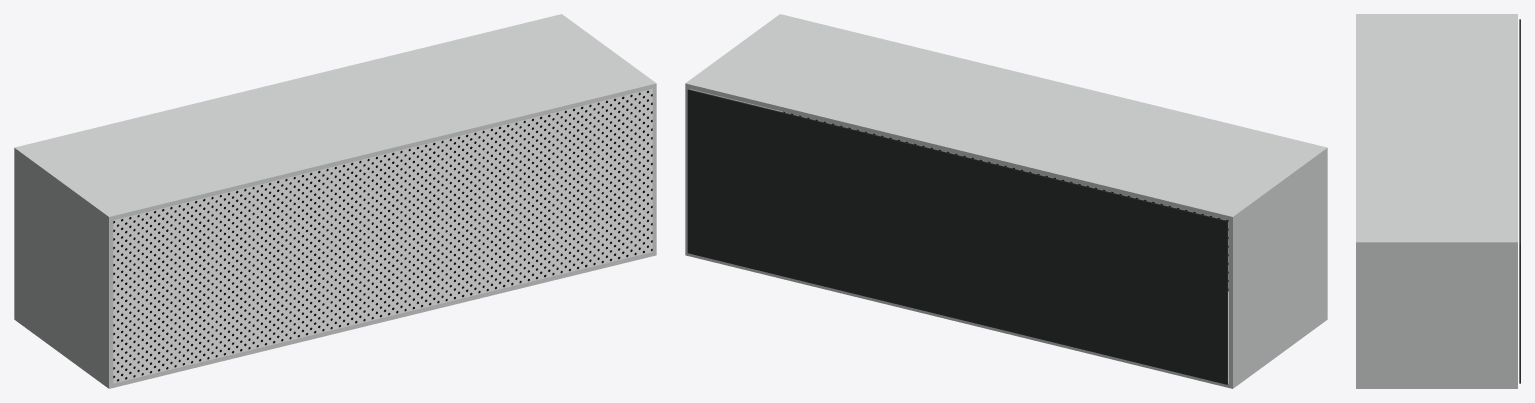
The model's file is ecoclima-egfc-400x120.glb.
The picture shows the model from 3 angles, left to right: view 1: azimuth 30°, elevation 25°; view 2: azimuth 150°, elevation 25°; view 3: azimuth 270°, elevation 25°; orthographic projection. The views are drawn at different scales.
Parts seen in each view (by area): view 1: Profile_lamiera_forata.005, Profile_ritorno.136, Profile_ritorno.138, Profile_ritorno.137, Profile_ritorno.139; view 2: Interno.036, Profile_ritorno.136, Profile_ritorno.138, Profile_ritorno.137, Profile_lamiera_forata.005, Profile_ritorno.139; view 3: Profile_ritorno.136, Profile_ritorno.139, Interno.036, Profile_ritorno.137.
Part boxes in pixels (left/top/right/bottom): Profile_lamiera_forata.005: left=113, top=89, right=652, bottom=383; Profile_ritorno.136: left=14, top=14, right=656, bottom=221; Profile_ritorno.138: left=14, top=152, right=113, bottom=384; Profile_ritorno.137: left=14, top=251, right=656, bottom=388; Profile_ritorno.139: left=652, top=88, right=656, bottom=251; Interno.036: left=687, top=89, right=1227, bottom=384; Profile_ritorno.136: left=685, top=14, right=1327, bottom=221; Profile_ritorno.138: left=1228, top=152, right=1327, bottom=384; Profile_ritorno.137: left=685, top=251, right=1327, bottom=388; Profile_lamiera_forata.005: left=783, top=111, right=1228, bottom=291; Profile_ritorno.139: left=685, top=88, right=782, bottom=251; Profile_ritorno.136: left=1356, top=14, right=1517, bottom=245; Profile_ritorno.139: left=1356, top=246, right=1517, bottom=385; Interno.036: left=1519, top=19, right=1520, bottom=383; Profile_ritorno.137: left=1356, top=385, right=1517, bottom=388.
Bounding box in the file's own units: 0.4 × 0.12 × 0.122.
Materials: 3 (1 with a texture image).
